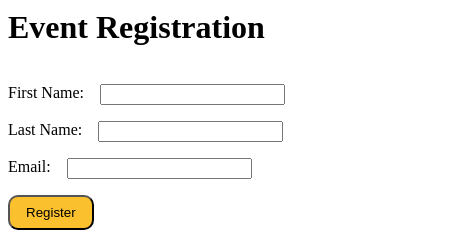
Test: RegisterForm › should display error messages for missing inputs
Click the button: {"x": 51, "y": 212} [8,195,94,230]
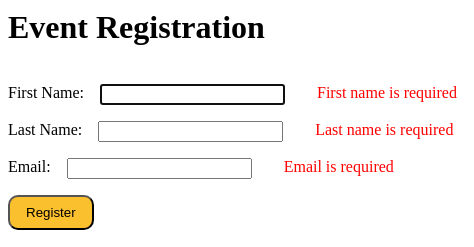
Result: the text "First name is required" is shown at [317,84,457,105]
Result: the text "Last name is required" is shown at [315,121,453,142]
Result: the text "Email is required" is shown at [284,158,394,179]
